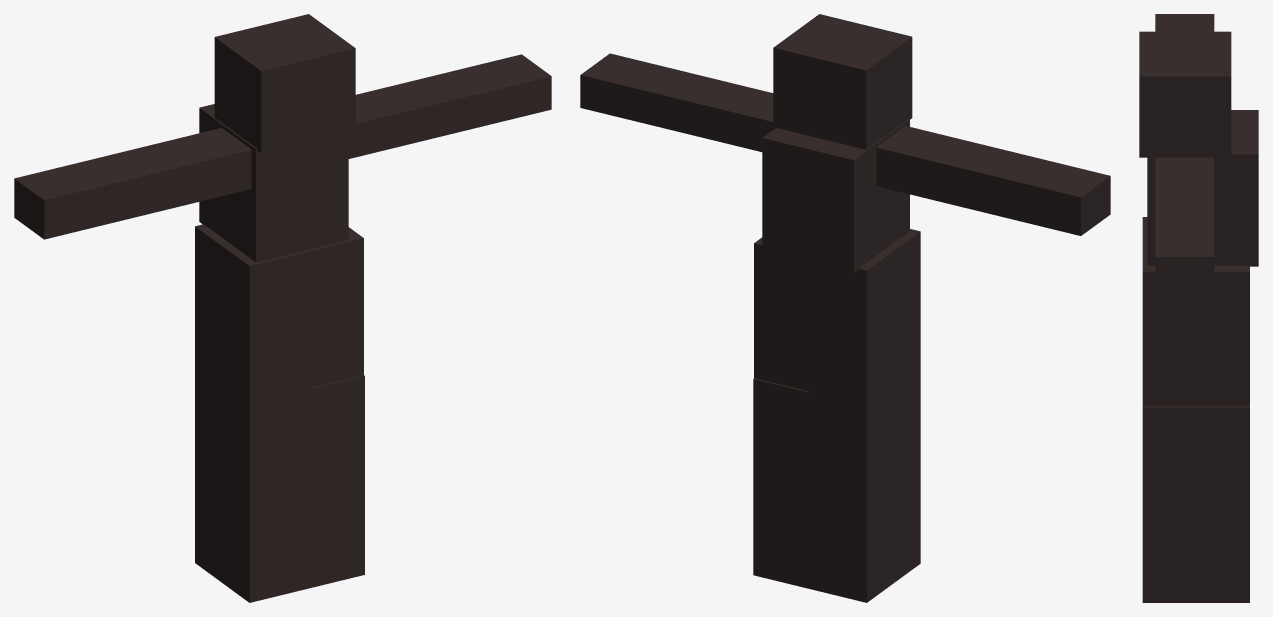
File: man.obj
The picture shows the model from 3 angles, left to right: view 1: azimuth 30°, elevation 25°; view 2: azimuth 150°, elevation 25°; view 3: azimuth 270°, elevation 25°; orthographic projection.
Visible parts, largest first — view 1: !p_leg2_$bb_leg2.1, !p_b1_$bb_leg2, !p_b1_$bb_head, !p_b1_$bb_arm2, $bb_b1, !p_b1_$bb_arm1, !p_leg1_$bb_leg1.1, !p_b1_$bb_leg1; view 2: !p_leg2_$bb_leg2.1, $bb_b1, !p_b1_$bb_leg2, !p_b1_$bb_head, !p_b1_$bb_arm2, !p_leg1_$bb_leg1.1, !p_b1_$bb_arm1, !p_b1_$bb_leg1; view 3: !p_leg1_$bb_leg1.1, !p_b1_$bb_leg1, !p_b1_$bb_head, !p_b1_$bb_arm1, $bb_b1, !p_b1_$bb_arm2.
Boxes of the visible parts, x1,y1,x2,y2 form: !p_leg2_$bb_leg2.1: (195, 364, 305, 602); !p_b1_$bb_leg2: (195, 224, 308, 404); !p_b1_$bb_head: (214, 14, 355, 153); !p_b1_$bb_arm2: (14, 128, 251, 239); $bb_b1: (199, 104, 348, 262); !p_b1_$bb_arm1: (348, 54, 551, 158); !p_leg1_$bb_leg1.1: (305, 375, 364, 588); !p_b1_$bb_leg1: (307, 227, 363, 388); !p_leg2_$bb_leg2.1: (811, 367, 920, 602); $bb_b1: (762, 119, 909, 272); !p_b1_$bb_leg2: (808, 229, 920, 407); !p_b1_$bb_head: (773, 14, 912, 149); !p_b1_$bb_arm2: (876, 126, 1110, 235); !p_leg1_$bb_leg1.1: (753, 378, 811, 589); !p_b1_$bb_arm1: (580, 53, 773, 151); !p_b1_$bb_leg1: (754, 237, 808, 391); !p_leg1_$bb_leg1.1: (1142, 406, 1249, 602); !p_b1_$bb_leg1: (1142, 245, 1249, 405); !p_b1_$bb_head: (1139, 31, 1231, 157); !p_b1_$bb_arm1: (1155, 157, 1214, 289); $bb_b1: (1147, 110, 1258, 266); !p_b1_$bb_arm2: (1155, 14, 1214, 31).
Size of what is drawn, in the model's own units: 9.18 by 9.17 by 1.9.
Materials: 4 (3 with a texture image).
